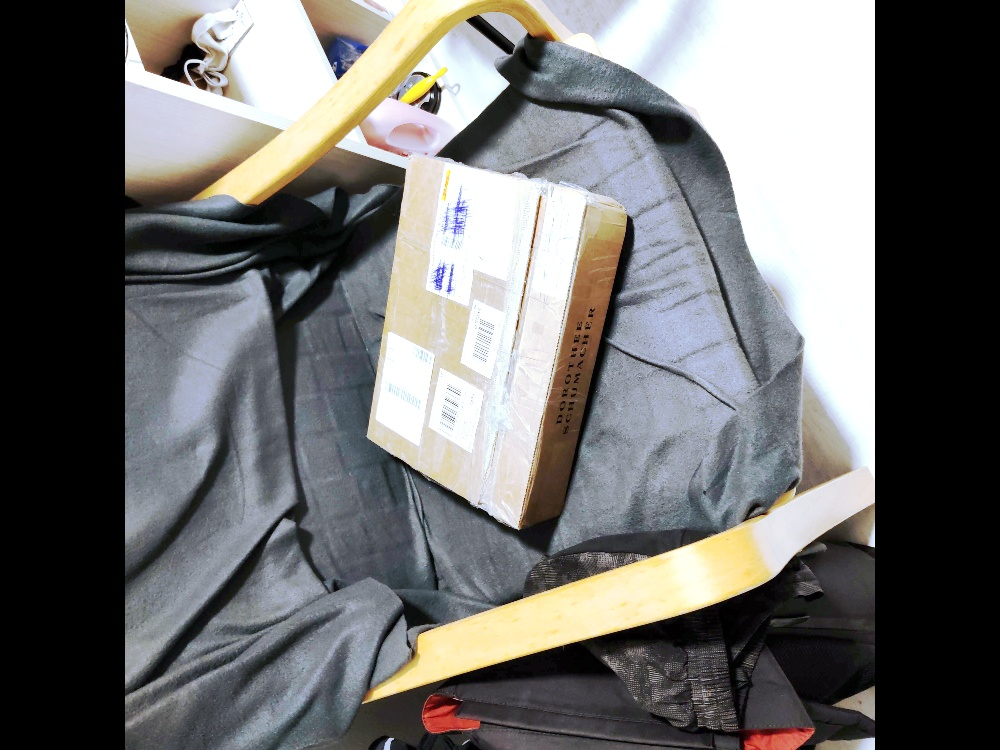good-parcel: (362, 144, 633, 537)
